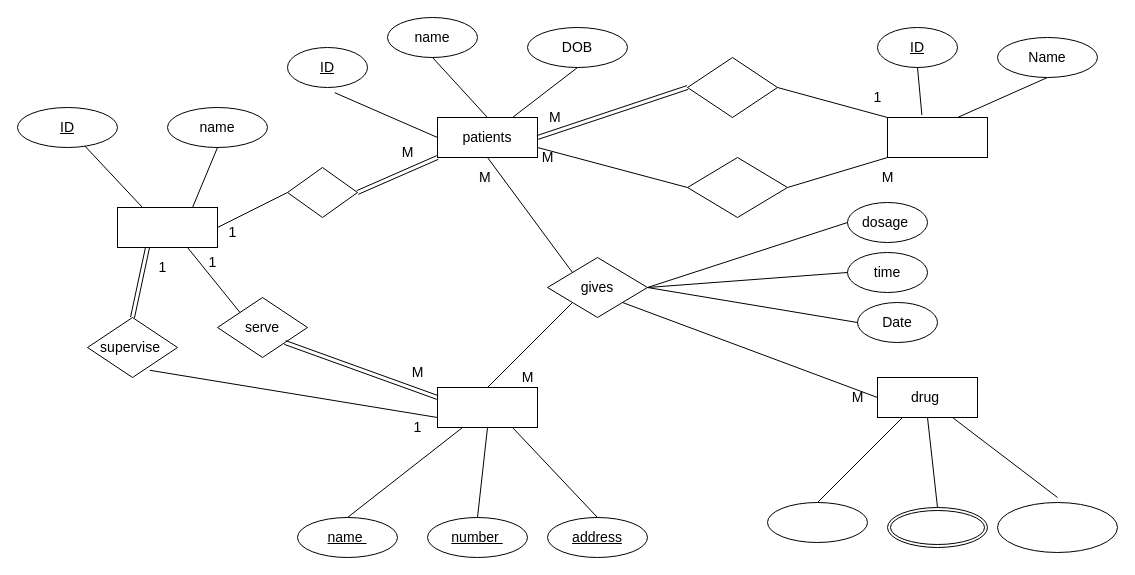
This 1135x575 diagram has some shape labels left out. Here are the shapes that lost their labels. From the top down, the centre of each, then its label:
At (732,87): "assigned".
At (937,137): "Consultants".
At (322,192): "host".
At (737,187): "examined".
At (167,227): "Ward".
At (487,407): "nurse".
At (817,522): "code number".
At (937,527): "brand name".
At (1057,527): "recommended dosage".
